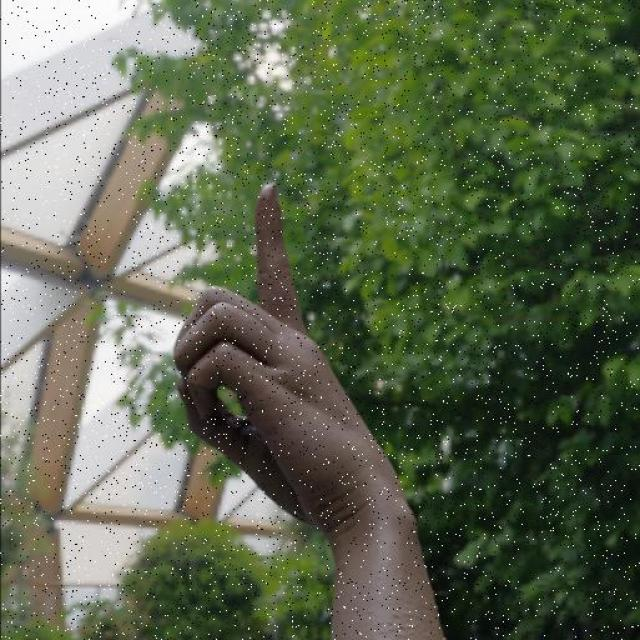D: (166, 176, 404, 569)
